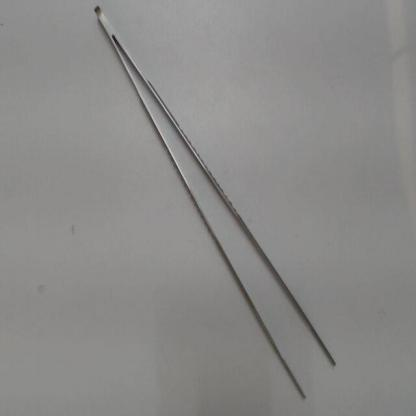DeBakey Dissector: (77, 0, 355, 407)
